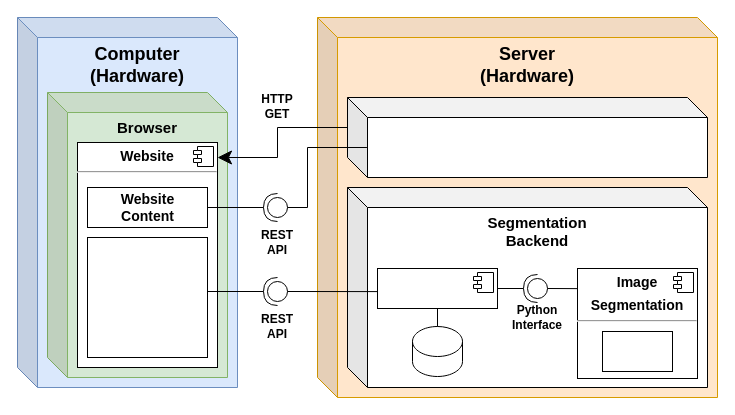
This 735x415 diagram has some shape labels left out. Each missing label, with the centre of its shape:
Backend: [437,288]
Frontend: [147,297]
Neural Network: [637,351]
Website Backend: [527,137]
